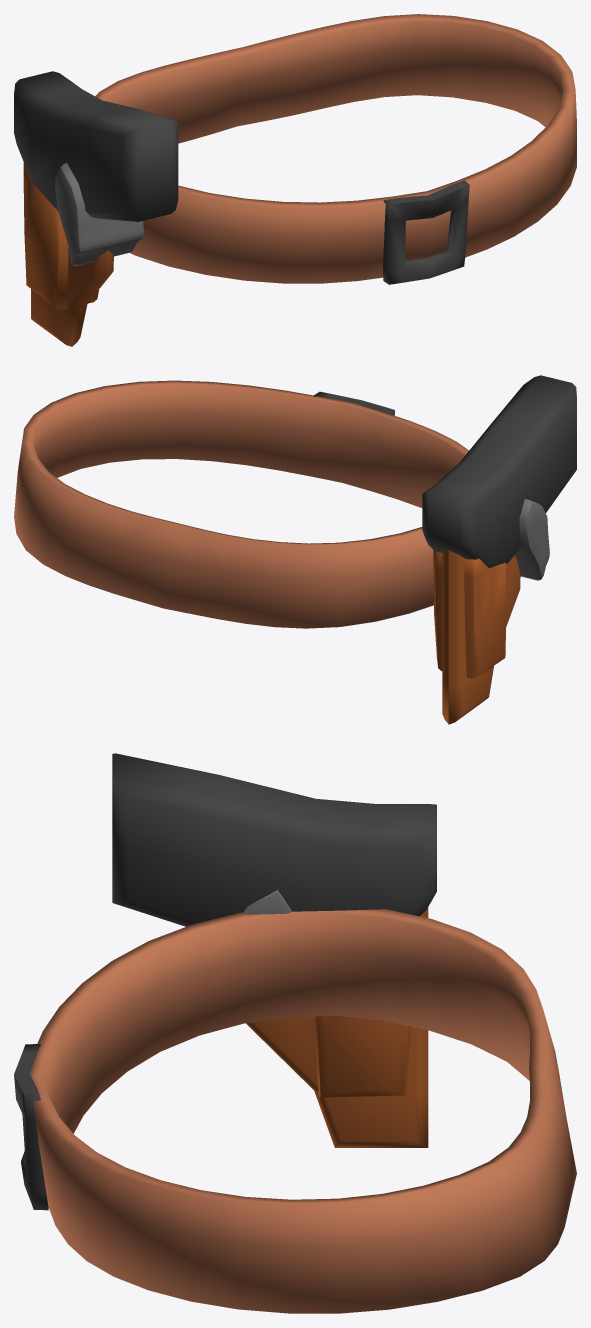
Rendered from belt_NonRigged.fbx.
3 views of the same model, one above another, from view 1: azimuth 30°, elevation 25°; view 2: azimuth 150°, elevation 25°; view 3: azimuth 270°, elevation 25° (orthographic). The views are drawn at different scales.
Parts seen in each view (by area): view 1: belt_NonRigged; view 2: belt_NonRigged; view 3: belt_NonRigged.
Boxes of the visible parts, <box> form: belt_NonRigged: <box>14,14,576,346</box>; belt_NonRigged: <box>14,375,576,724</box>; belt_NonRigged: <box>14,753,576,1313</box>.
Bounding box in the file's own units: 95.58 × 50.17 × 66.65.
